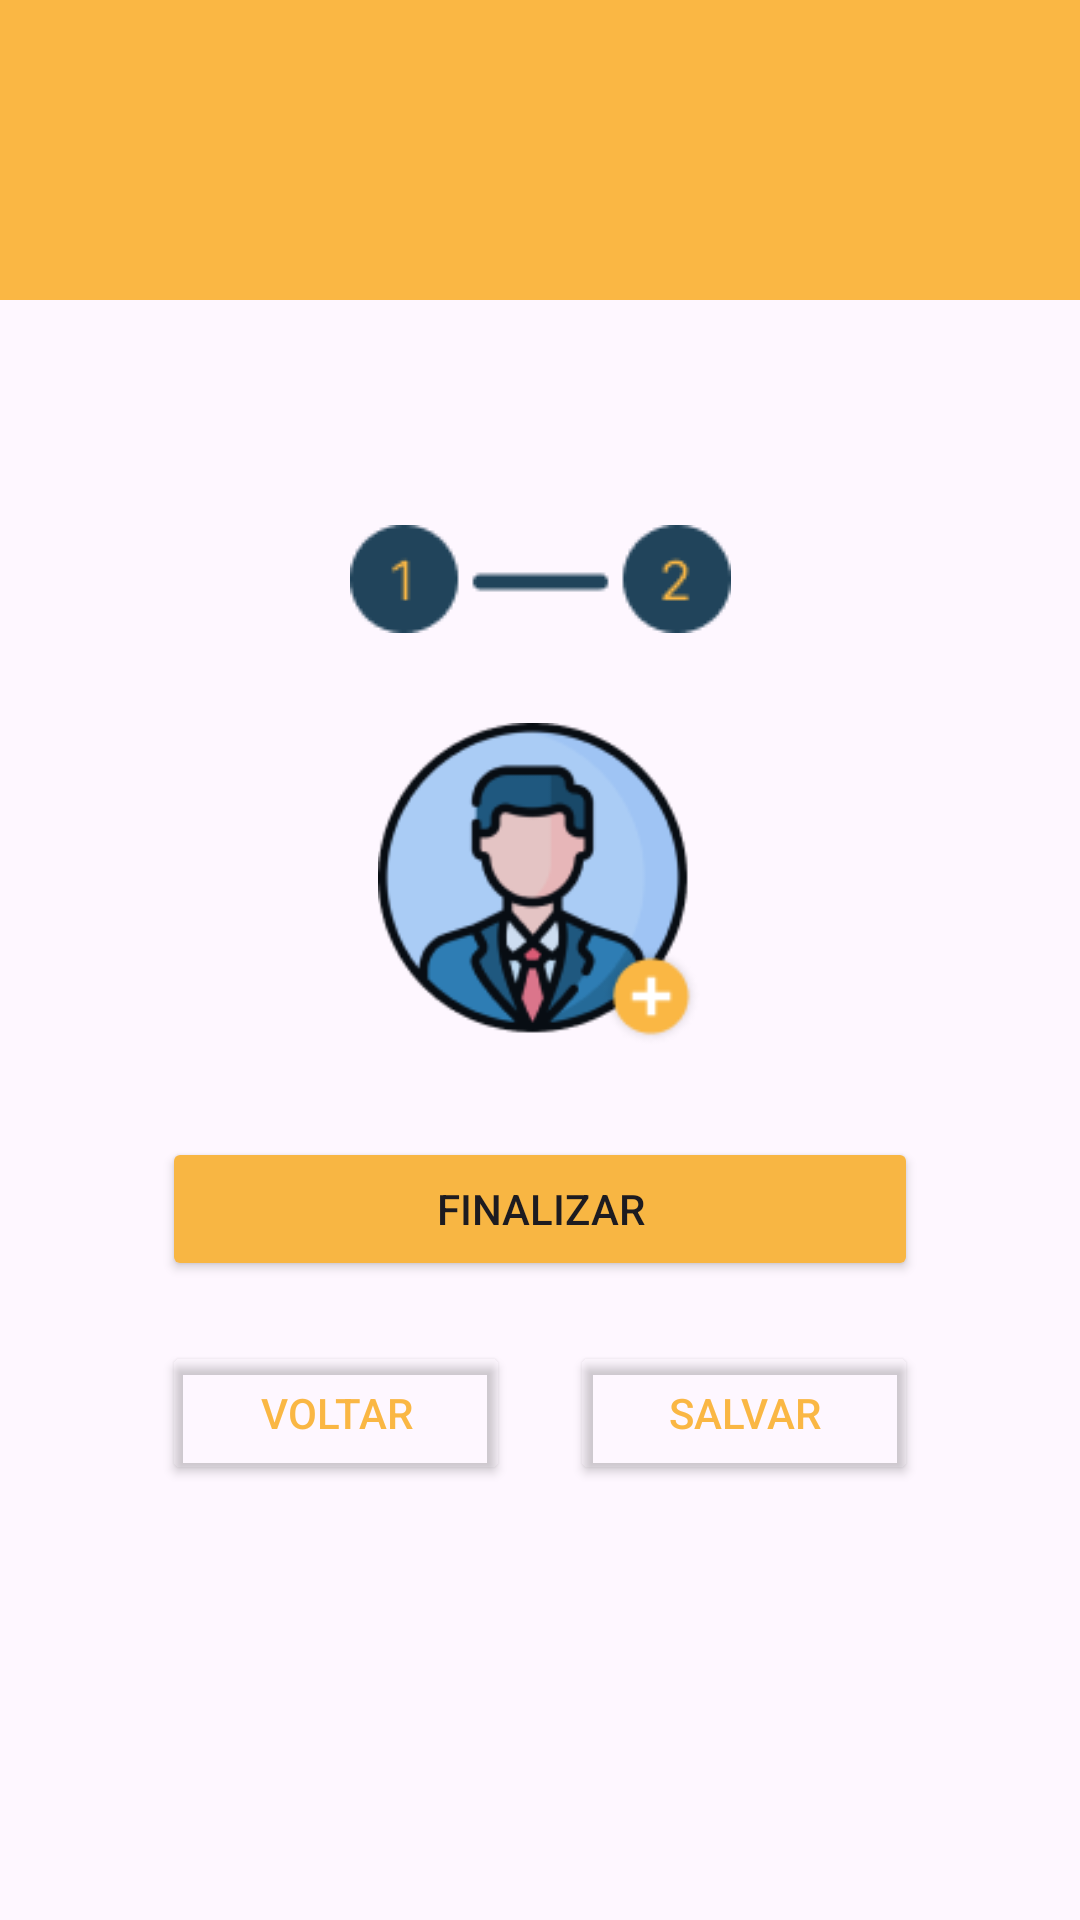

Icon bounding boxes for this 1080 × 1920 phone screenshot, format (x1, y1, x2, y2):
addprofilepicture: (378, 723, 691, 1036)
